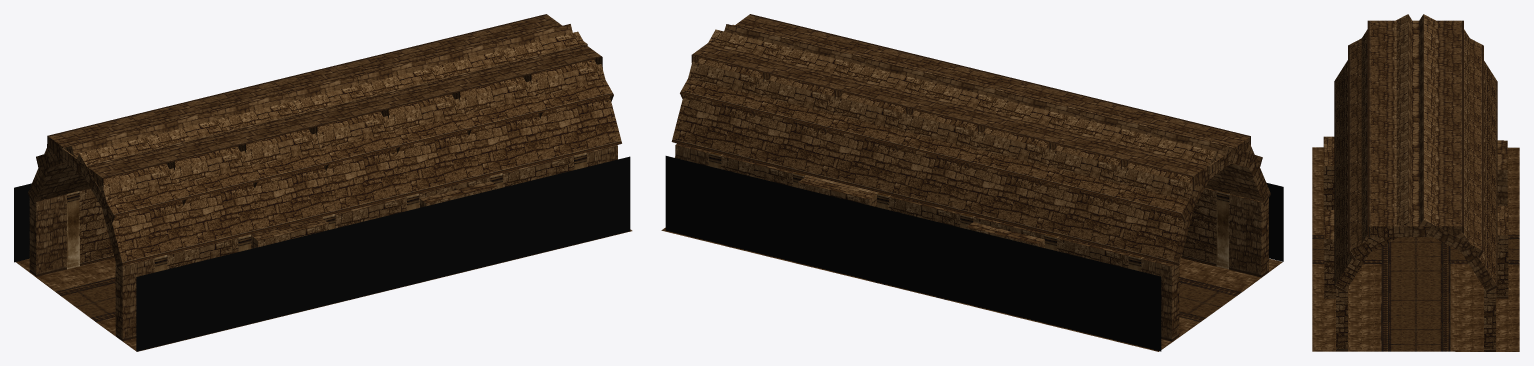
File: Tunnel1.fbx
3 renders of one model, left to right at view 1: azimuth 30°, elevation 25°; view 2: azimuth 150°, elevation 25°; view 3: azimuth 270°, elevation 25°, orthographic. The views are drawn at different scales.
Visible parts, largest first — view 1: Plane.022, Plane.057, Plane.055, Plane.060, Plane.059, Plane.058, Plane.056, Plane.035, Plane.061, Floor, Plane.051, Plane.066 (+15 smaller); view 2: Plane.068, Plane.061, Plane.067, Plane.064, Plane.062, Plane.063, Plane.066, Plane.065, Floor, Plane.057, Plane.045, Plane.030 (+16 smaller); view 3: Floor, Plane.064, Plane.060, Plane.067, Plane.061, Plane.066, Plane.063, Plane.062, Plane.065, Plane.055, Plane.059, Plane.058 (+9 smaller).
Boxes of the visible parts, x1,y1,x2,y2 form: Plane.022: [136, 156, 630, 351]; Plane.057: [62, 136, 193, 267]; Plane.055: [221, 101, 336, 231]; Plane.060: [507, 31, 621, 160]; Plane.059: [436, 49, 550, 178]; Plane.058: [364, 66, 479, 195]; Plane.056: [150, 118, 264, 247]; Plane.035: [293, 84, 407, 212]; Plane.061: [28, 118, 159, 204]; Floor: [16, 229, 632, 351]; Plane.051: [29, 194, 66, 276]; Plane.066: [333, 48, 445, 96]; Plane.068: [665, 156, 1161, 351]; Plane.061: [1101, 129, 1233, 265]; Plane.067: [886, 77, 1018, 211]; Plane.064: [671, 24, 803, 159]; Plane.062: [1029, 112, 1161, 247]; Plane.063: [958, 94, 1089, 229]; Plane.066: [814, 59, 946, 194]; Plane.065: [743, 42, 875, 176]; Floor: [661, 227, 1282, 351]; Plane.057: [1153, 119, 1270, 204]; Plane.045: [1229, 194, 1268, 277]; Plane.030: [1181, 188, 1216, 266]; Floor: [1312, 147, 1519, 351]; Plane.064: [1394, 190, 1497, 292]; Plane.060: [1334, 190, 1432, 292]; Plane.067: [1394, 102, 1497, 198]; Plane.061: [1394, 14, 1497, 110]; Plane.066: [1394, 132, 1497, 228]; Plane.063: [1394, 73, 1497, 169]; Plane.062: [1394, 43, 1497, 139]; Plane.065: [1394, 161, 1497, 257]; Plane.055: [1334, 73, 1411, 168]; Plane.059: [1334, 161, 1411, 256]; Plane.058: [1334, 132, 1411, 227].
Bounding box in the file's own units: 17519 × 5424 × 7446.
